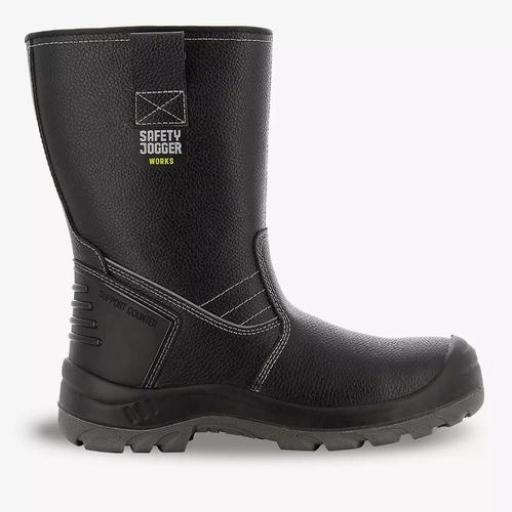safety_boots: (18, 12, 485, 458)
